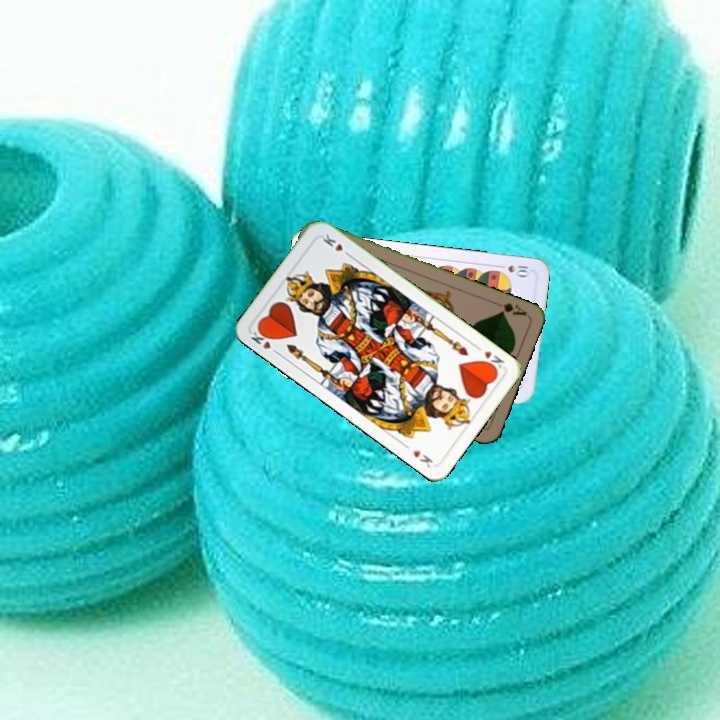GA: (490, 298, 529, 318)
HK: (247, 323, 282, 358), (471, 341, 507, 373)
S10: (493, 261, 533, 279)
